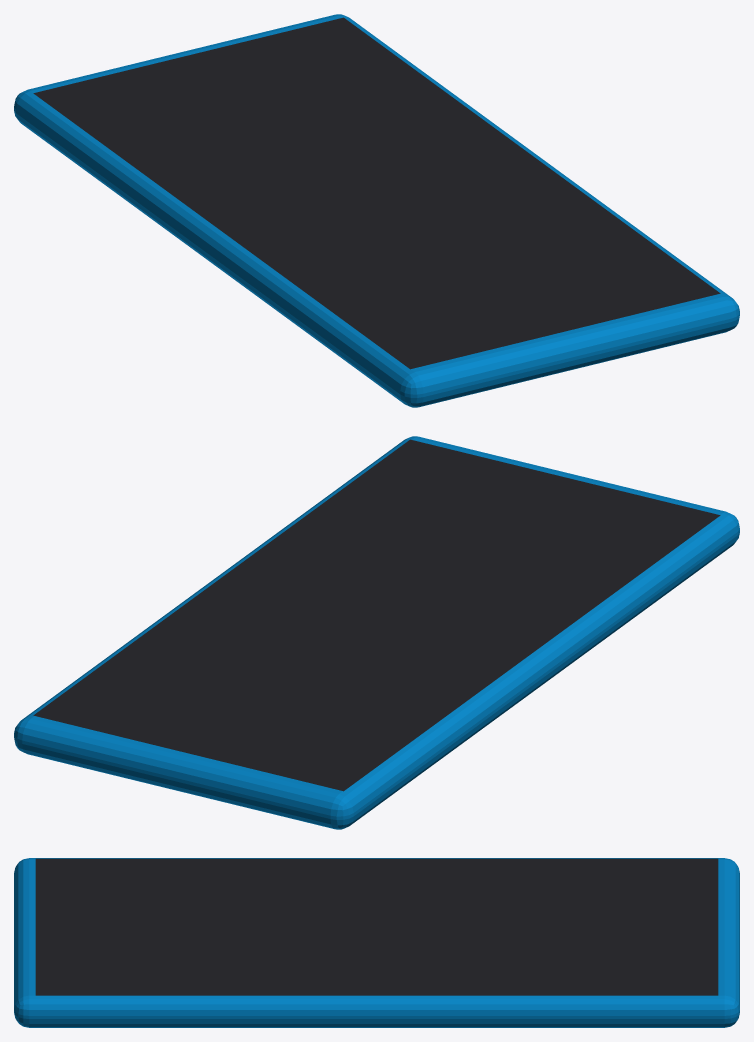
The model's file is Phone_509.glb.
3 views of the same model, one above another, from view 1: azimuth 30°, elevation 25°; view 2: azimuth 150°, elevation 25°; view 3: azimuth 270°, elevation 25° (orthographic). The views are drawn at different scales.
Visible parts, largest first — view 1: Phone_Screen, Phone_Body; view 2: Phone_Screen, Phone_Body; view 3: Phone_Screen, Phone_Body.
Boxes of the visible parts, x1,y1,x2,y2 form: Phone_Screen: [33, 17, 720, 369]; Phone_Body: [14, 14, 739, 407]; Phone_Screen: [33, 439, 720, 791]; Phone_Body: [14, 436, 739, 829]; Phone_Screen: [35, 858, 718, 995]; Phone_Body: [14, 858, 739, 1027].
Size of the model in its own units: 0.0755 by 0.0074 by 0.1554.
